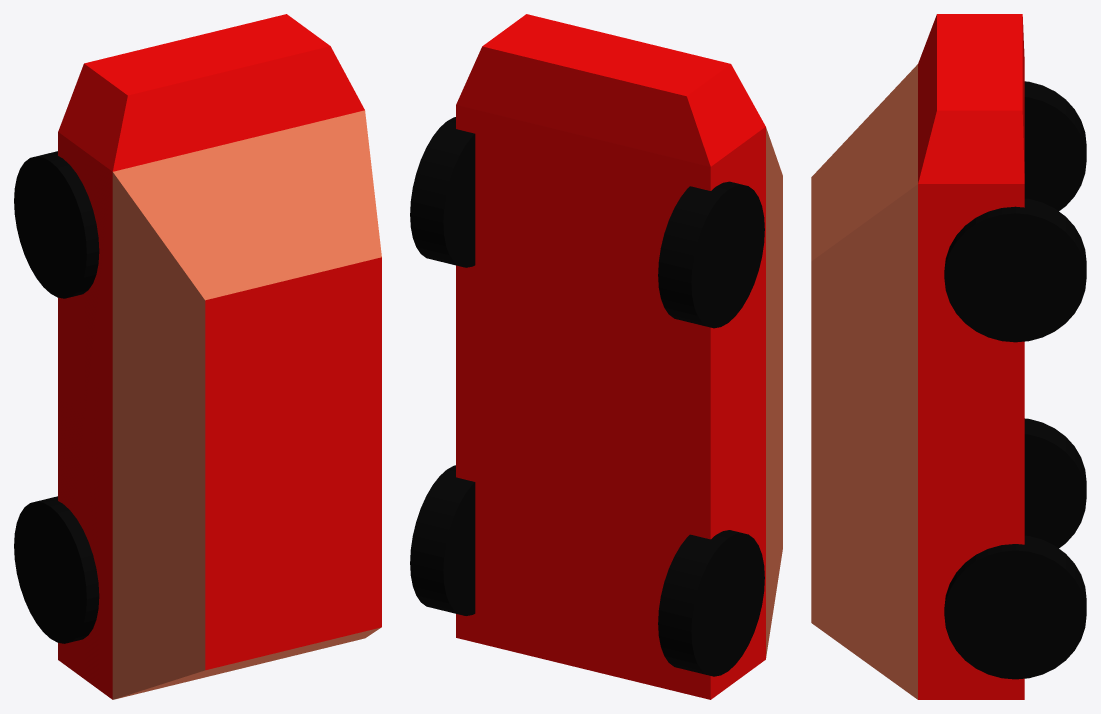
Rendered from chatgptcar.gltf.
3 views of the same model, side by side, from view 1: azimuth 30°, elevation 25°; view 2: azimuth 150°, elevation 25°; view 3: azimuth 270°, elevation 25° (orthographic). The views are drawn at different scales.
Parts seen in each view (by area): view 1: Cube.001, Cylinder, Cylinder.002; view 2: Cube.001, Cylinder.002, Cylinder, Cylinder.001, Cylinder.003; view 3: Cube.001, Cylinder.001, Cylinder.003, Cylinder.002, Cylinder.
Boxes of the visible parts, <box> form: Cube.001: <box>58,14,381,699</box>; Cylinder: <box>14,496,99,643</box>; Cylinder.002: <box>14,151,99,298</box>; Cube.001: <box>456,14,782,699</box>; Cylinder.002: <box>658,181,764,328</box>; Cylinder: <box>658,530,764,676</box>; Cylinder.001: <box>410,465,475,615</box>; Cylinder.003: <box>410,117,475,267</box>; Cube.001: <box>811,14,1024,699</box>; Cylinder.001: <box>944,535,1086,679</box>; Cylinder.003: <box>944,198,1086,342</box>; Cylinder.002: <box>1024,81,1086,210</box>; Cylinder: <box>1024,418,1086,548</box>.
Bounding box in the file's own units: 2.25 × 4.56 × 1.97.
